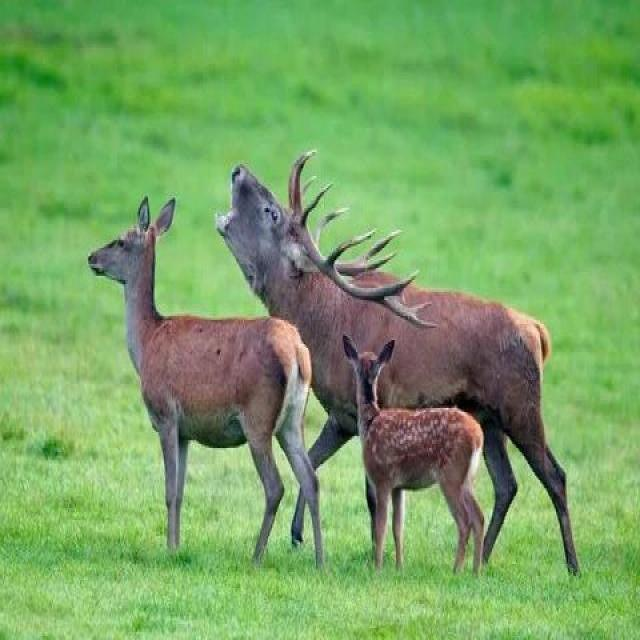deer: (214, 150, 539, 407), (82, 178, 308, 491), (344, 349, 513, 564)
